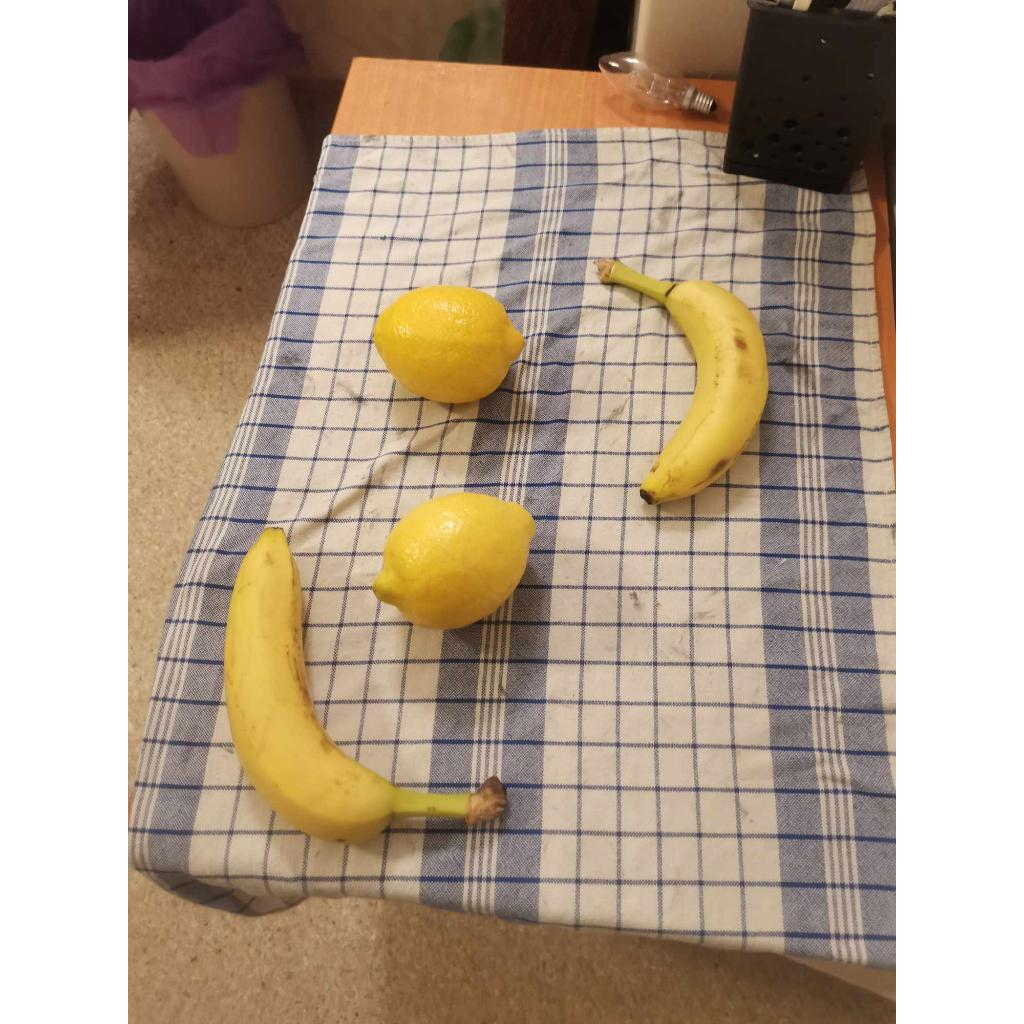banana: (222, 527, 507, 849), (599, 260, 771, 510)
lemon: (371, 495, 535, 633), (372, 285, 523, 409)
